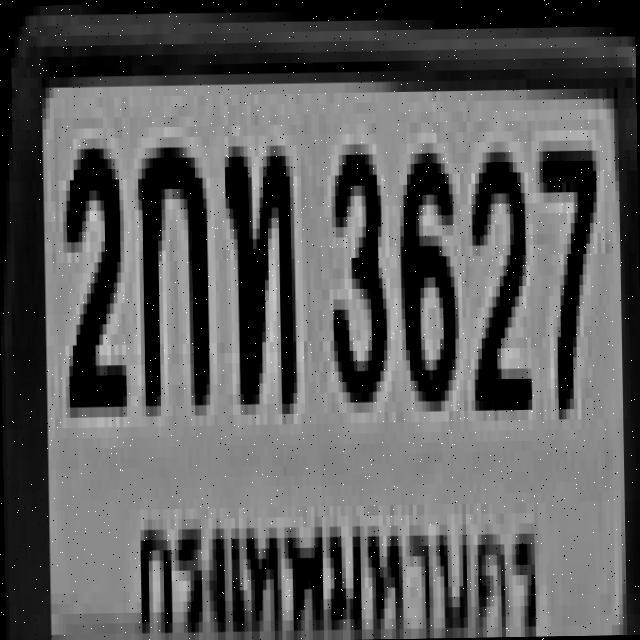10GorGai: (133, 130, 206, 400)
2: (61, 132, 123, 402), (467, 141, 528, 400)
3: (326, 128, 384, 387)
32ThorThaHan: (220, 129, 293, 399)
6: (394, 137, 452, 396)
7: (534, 134, 596, 403)
Bangkok: (127, 481, 550, 640)
